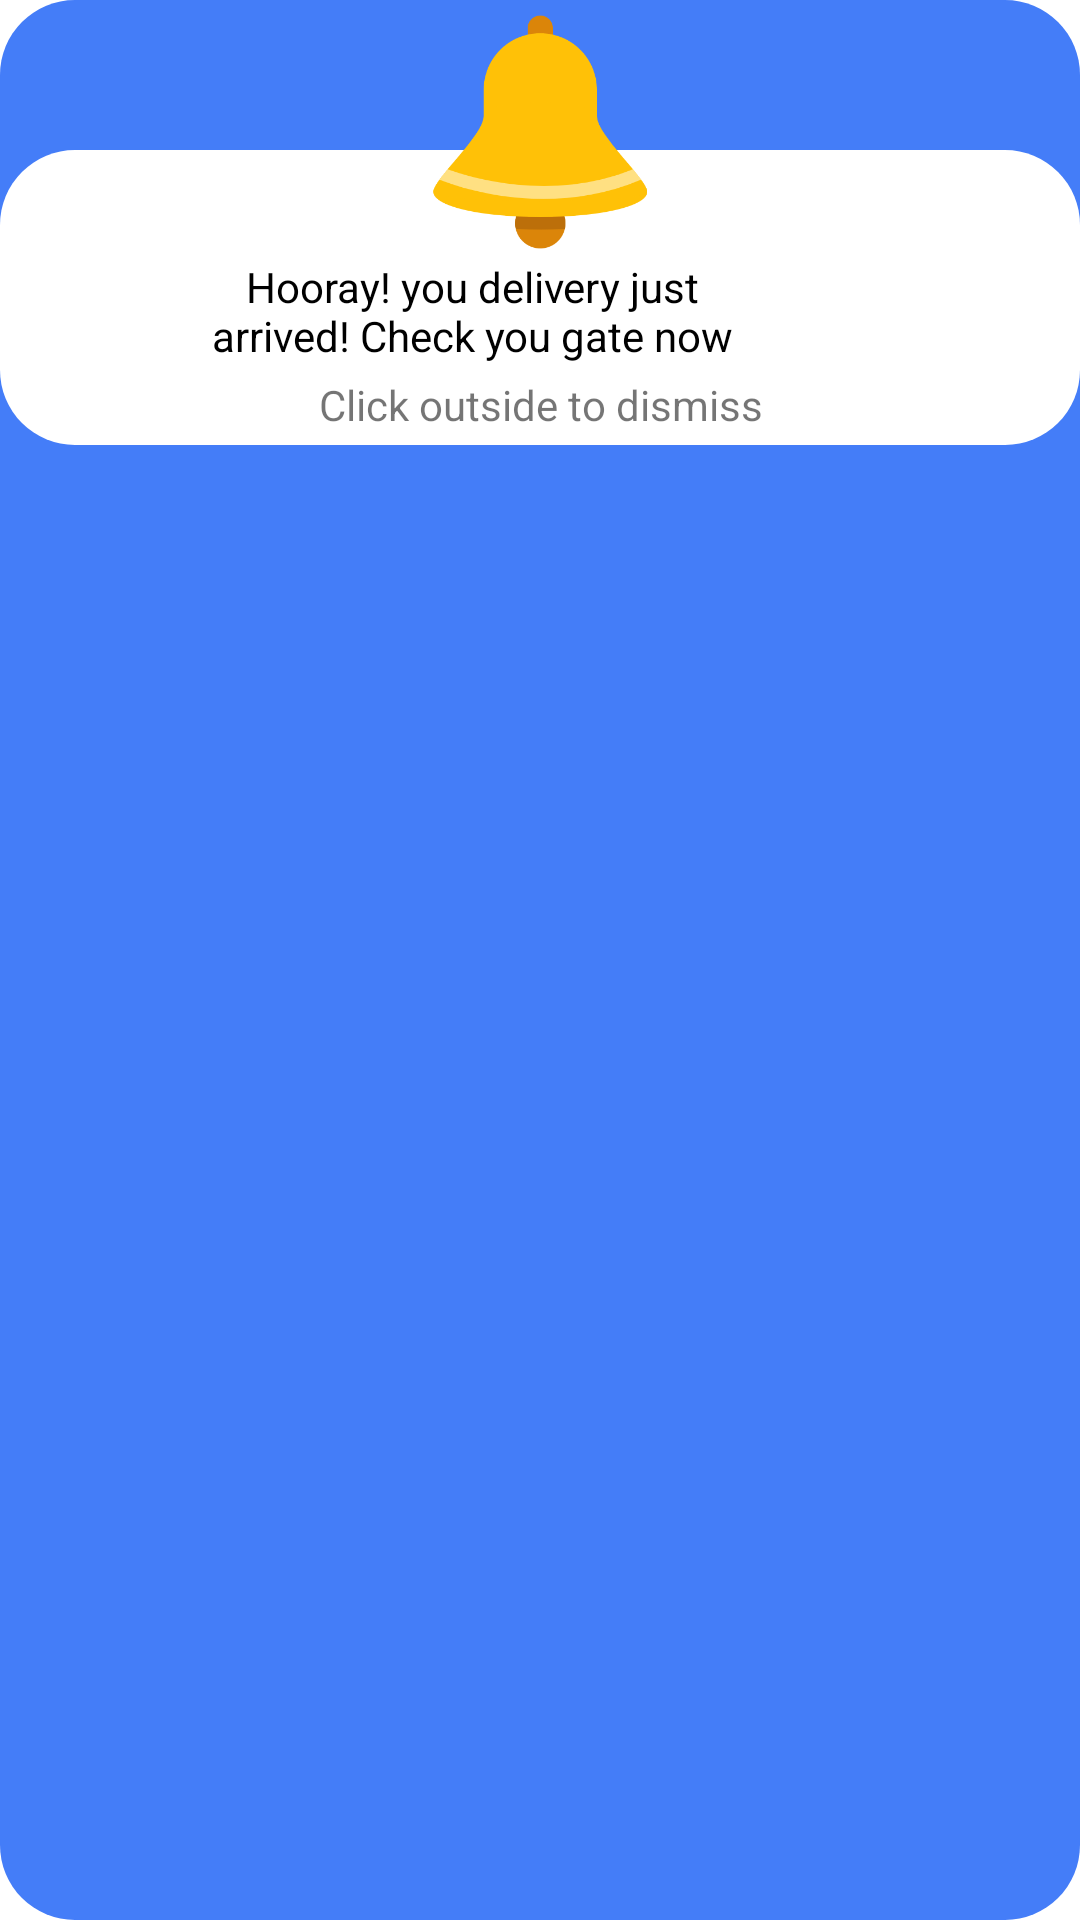

Icons on this 1080*1920 Android screen, each with its box as bbox=[x1, y1, x2, y2]:
bell: bbox=[396, 0, 684, 249]
